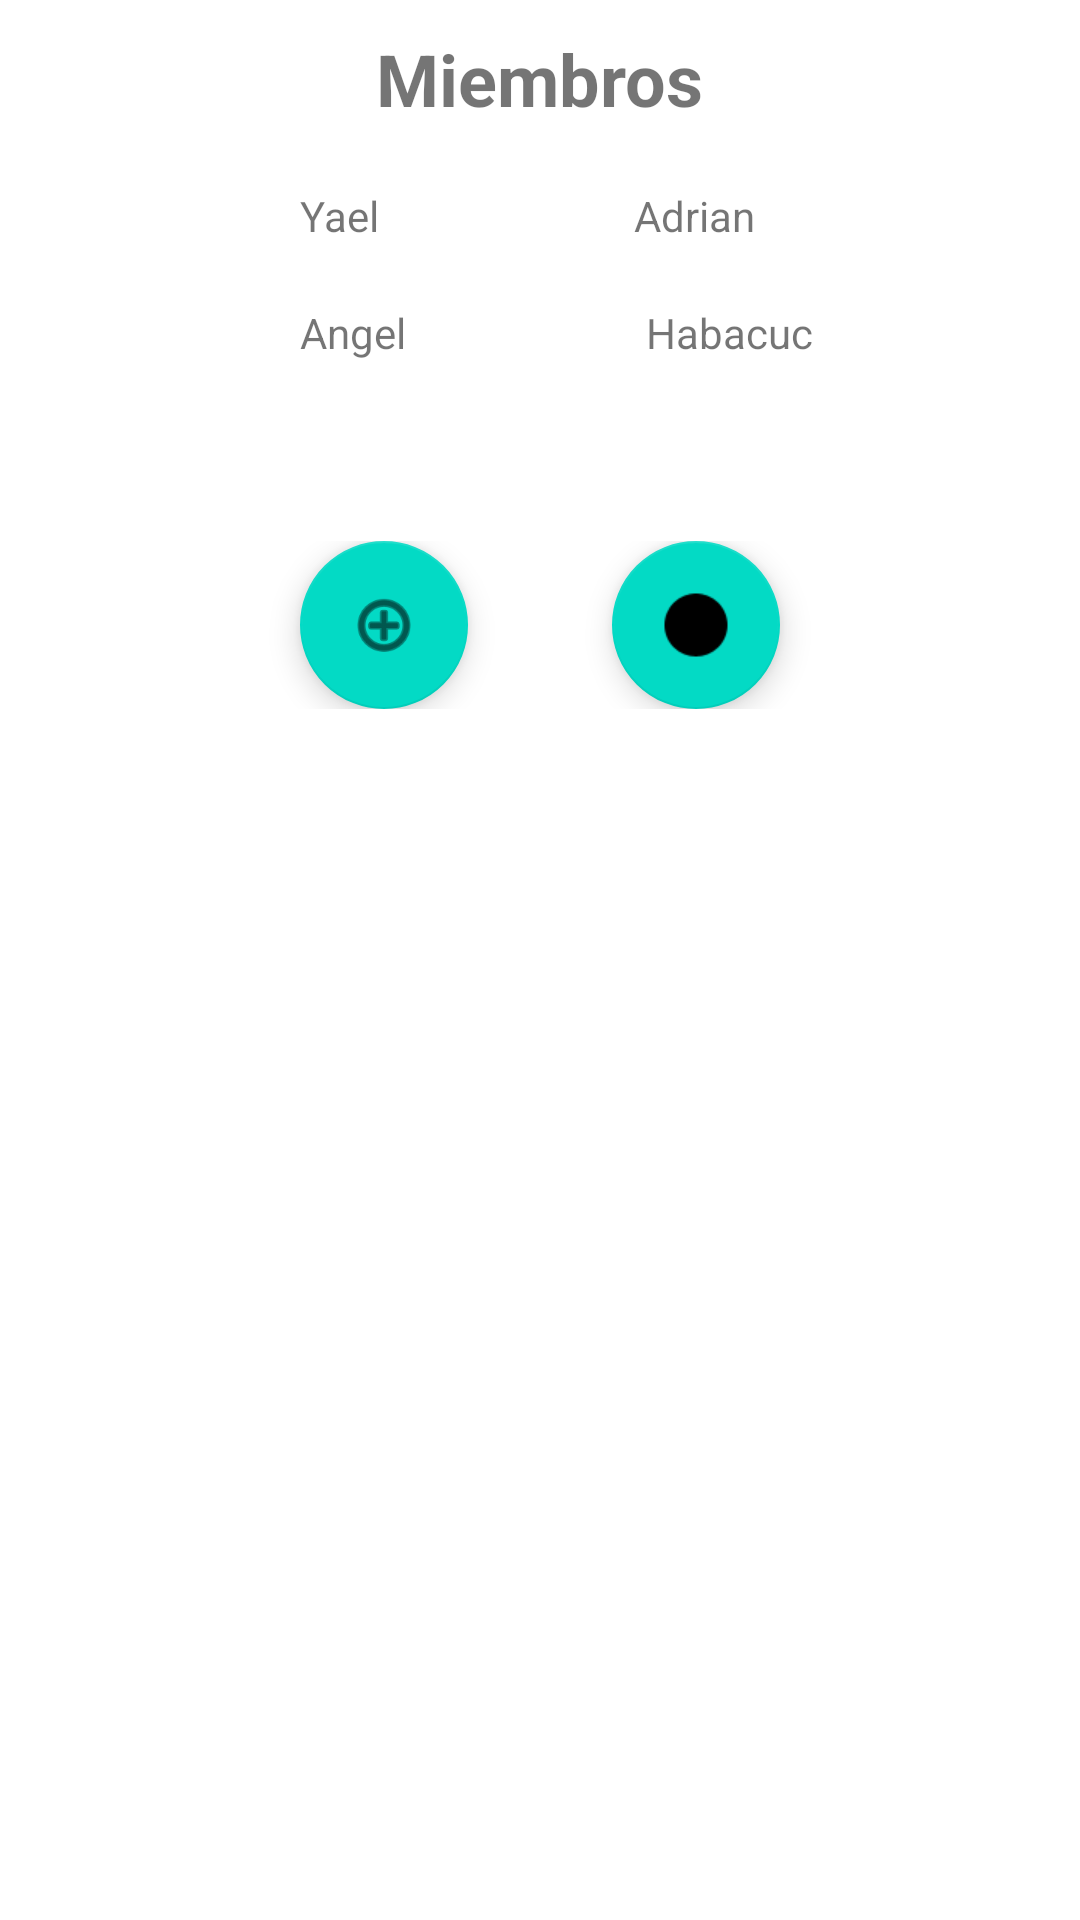

Where to tap for icons on this 1080px x 1920px app screen, as [x,y]:
add: [384,625]
